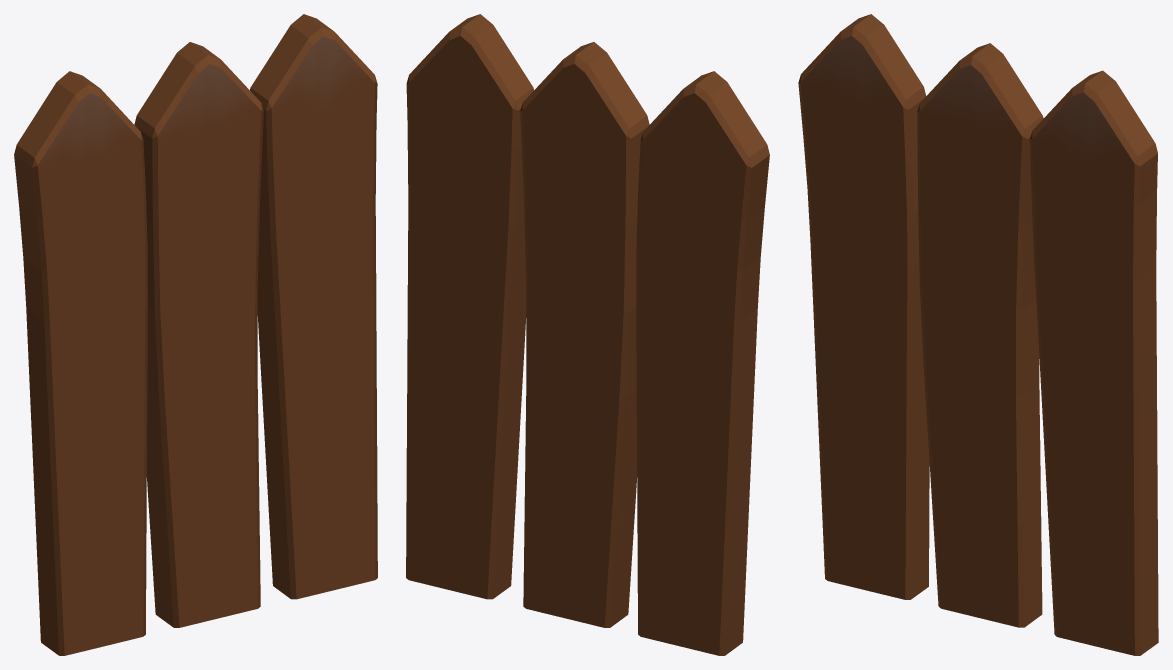
The model's file is fence2.fbx.
3 renders of one model, left to right at view 1: azimuth 30°, elevation 25°; view 2: azimuth 150°, elevation 25°; view 3: azimuth 330°, elevation 25°, orthographic.
Visible parts, largest first — view 1: fence15; view 2: fence15; view 3: fence15.
Boxes of the visible parts, bbox=[...] form: fence15: bbox=[14, 14, 377, 655]; fence15: bbox=[406, 14, 769, 655]; fence15: bbox=[798, 14, 1158, 655].
Size of the model in its own units: 11.2 by 17.46 by 1.19.
Materials: 1 (1 with a texture image).
